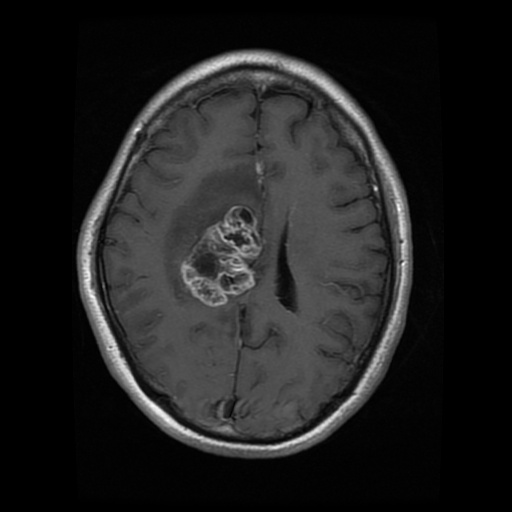glioma: (165, 155, 287, 306)
